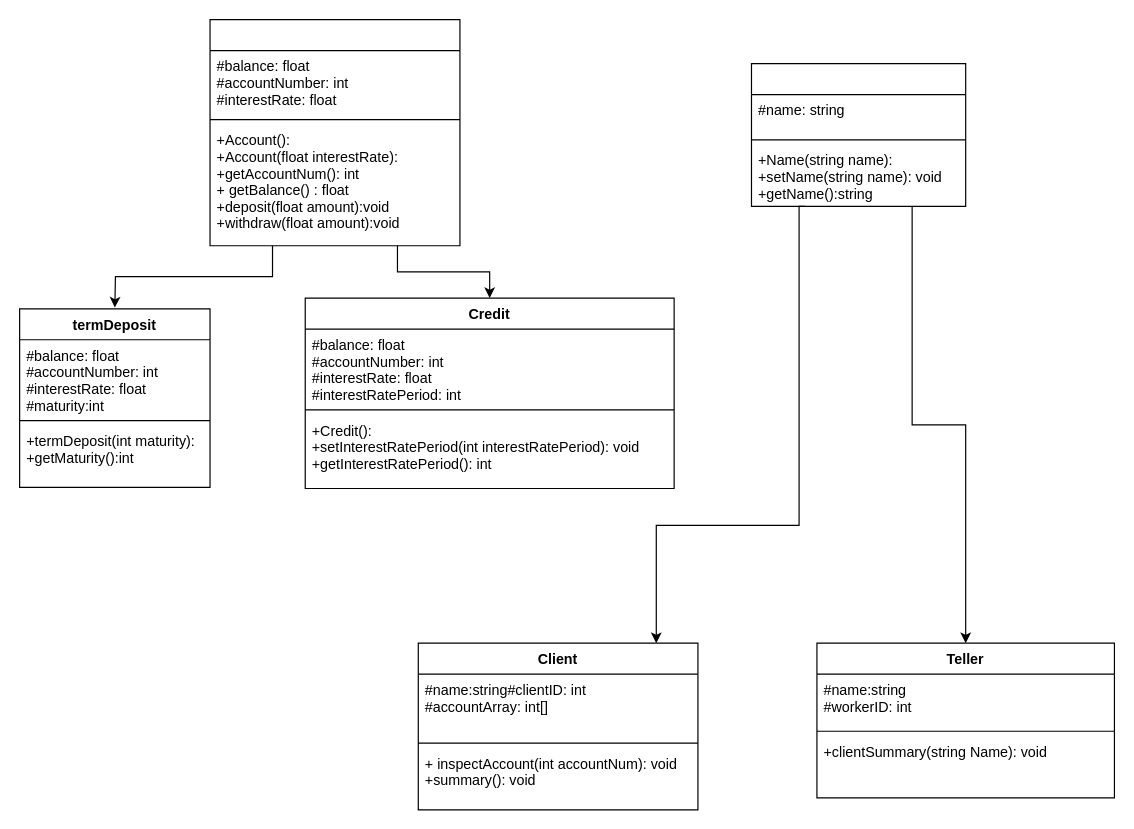
Some shapes in this 1134 by 829 pixel diagram are drawn without their labels. Each missing label, with the box of its shape:
Account-Savings (Abstract): (209, 18, 460, 246)
Users: (750, 62, 966, 206)
